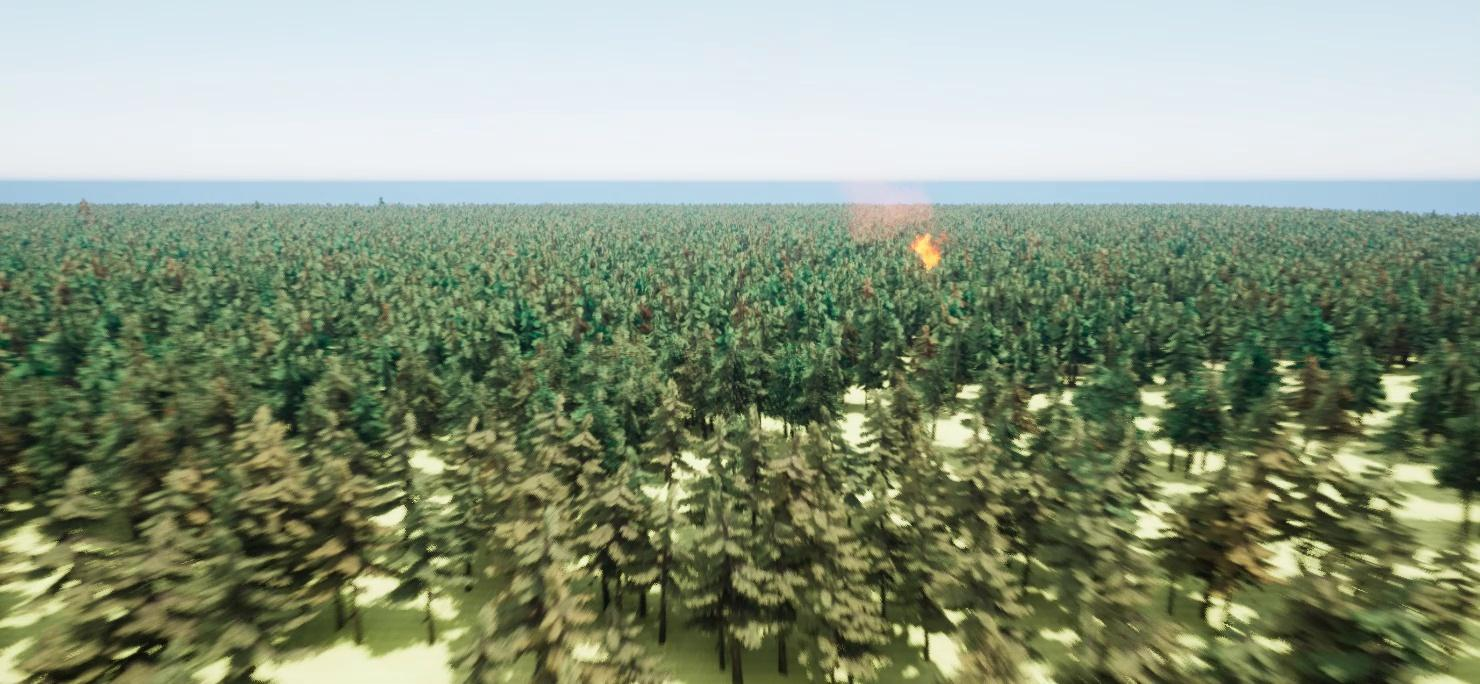fire: (912, 231, 944, 272)
smoke: (846, 180, 938, 239)
